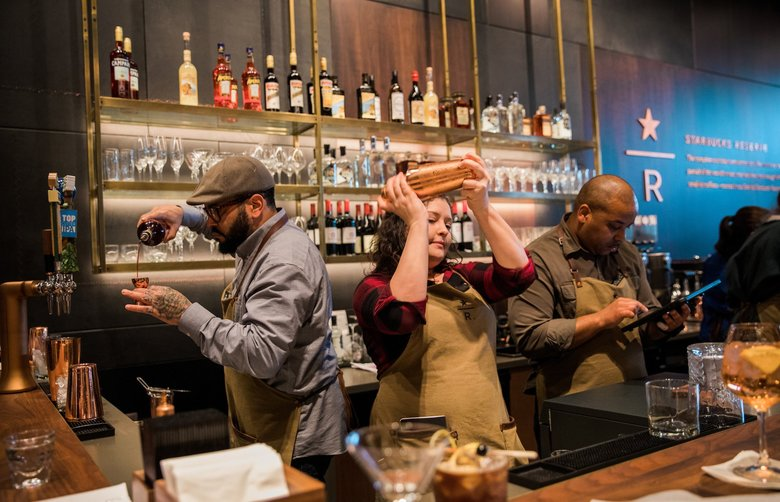Age_20_30: (401, 169, 468, 260)
Age_30_40: (194, 150, 278, 240), (583, 173, 640, 261)
E_Black: (583, 173, 640, 261)
E_White: (194, 150, 278, 240), (401, 169, 468, 260)
Emotion_Happy: (401, 169, 468, 260)
Emotion_Neutral: (194, 150, 278, 240), (583, 173, 640, 261)
G_ Female: (401, 169, 468, 260)
G_Male: (194, 150, 278, 240), (583, 173, 640, 261)
